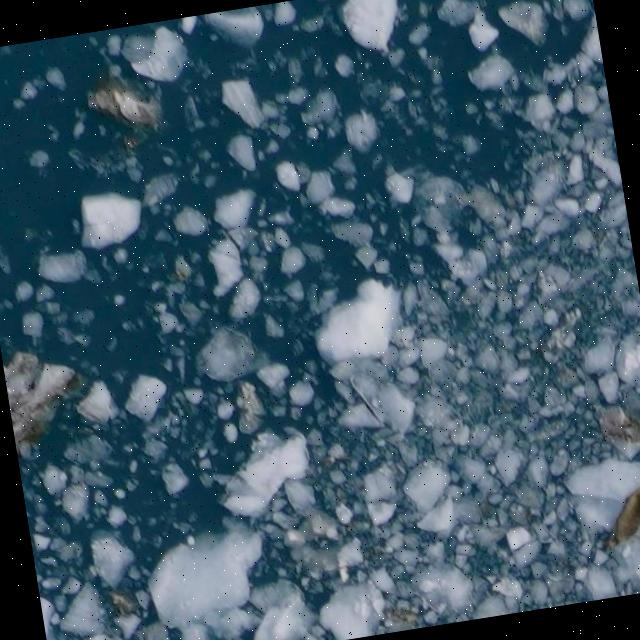seal: (604, 486, 640, 551)
